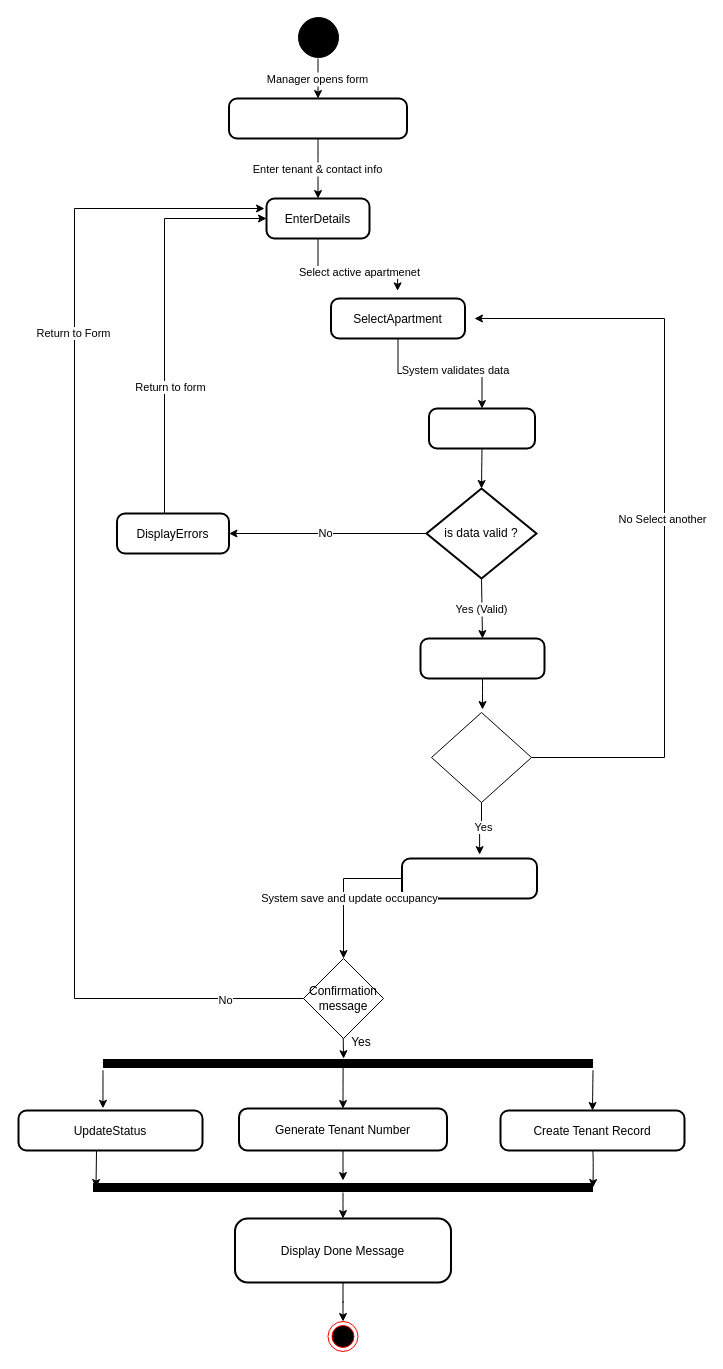
The diagram is 723 pixels wide and 1369 high, and some of its shapes have lost their labels. The shapes that lost their labels are listed below. From the top down, each one's centre as x and y in pixels, then its label:
At point 318,118: "OpenRegistrationForm".
At point 482,428: "ValidateData".
At point 482,658: "CheckCapacity".
At point 481,757: "Is Apartment available?".
At point 469,878: "SaveTransaction".
